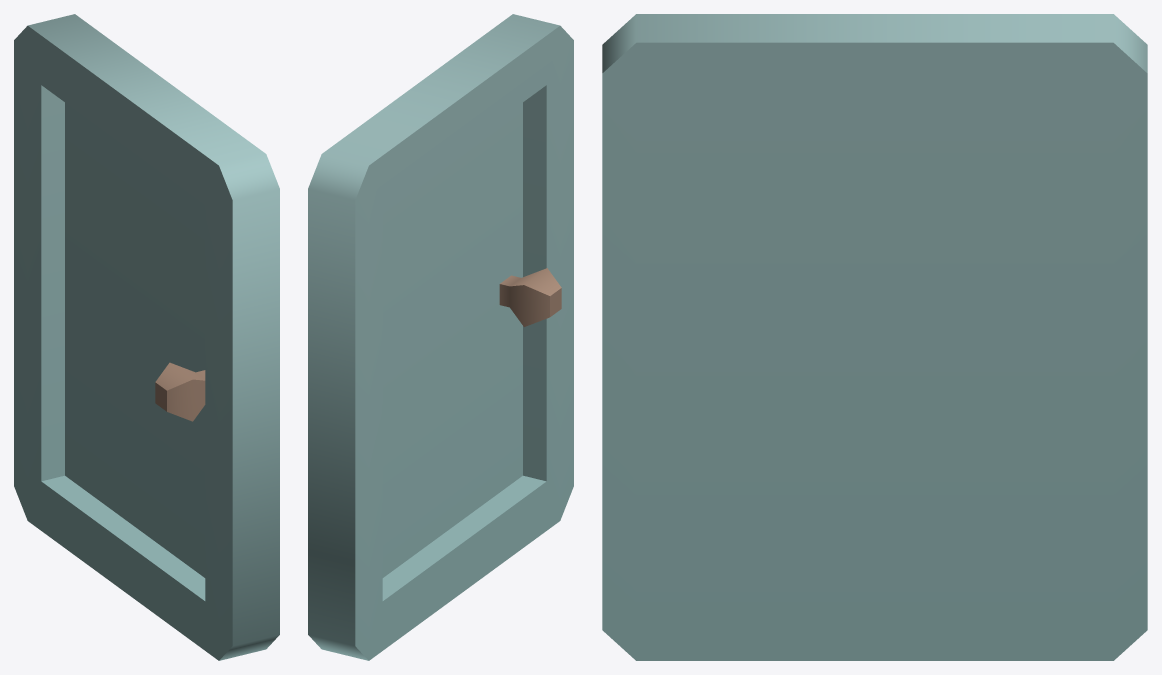
File: (%no-merge) (%open-left) (%low).glb
The picture shows the model from 3 angles, left to right: view 1: azimuth 30°, elevation 25°; view 2: azimuth 150°, elevation 25°; view 3: azimuth 270°, elevation 25°; orthographic projection. The views are drawn at different scales.
Parts seen in each view (by area): view 1: (%no-merge) (%open-left) (%low)(Clone); view 2: (%no-merge) (%open-left) (%low)(Clone); view 3: (%no-merge) (%open-left) (%low)(Clone).
Part boxes in pixels (bbox=[...]): (%no-merge) (%open-left) (%low)(Clone): bbox=[14, 14, 279, 660]; (%no-merge) (%open-left) (%low)(Clone): bbox=[308, 14, 573, 660]; (%no-merge) (%open-left) (%low)(Clone): bbox=[602, 14, 1147, 660].
Size of the model in its own units: 0.0782 by 0.5 by 0.4.
